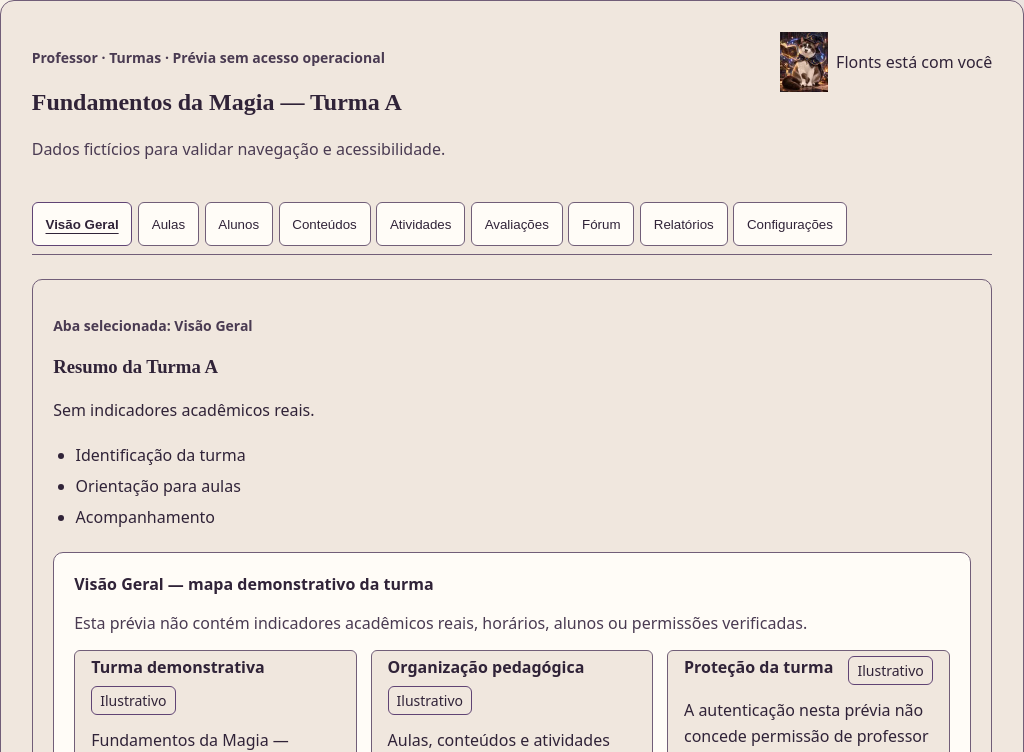
Test: Professor Turma A tabs prototype › renders read-only settings only in Configurações, isolated from Relatórios
Click the tab "Configurações" at (790, 224), box [733,202,847,246]
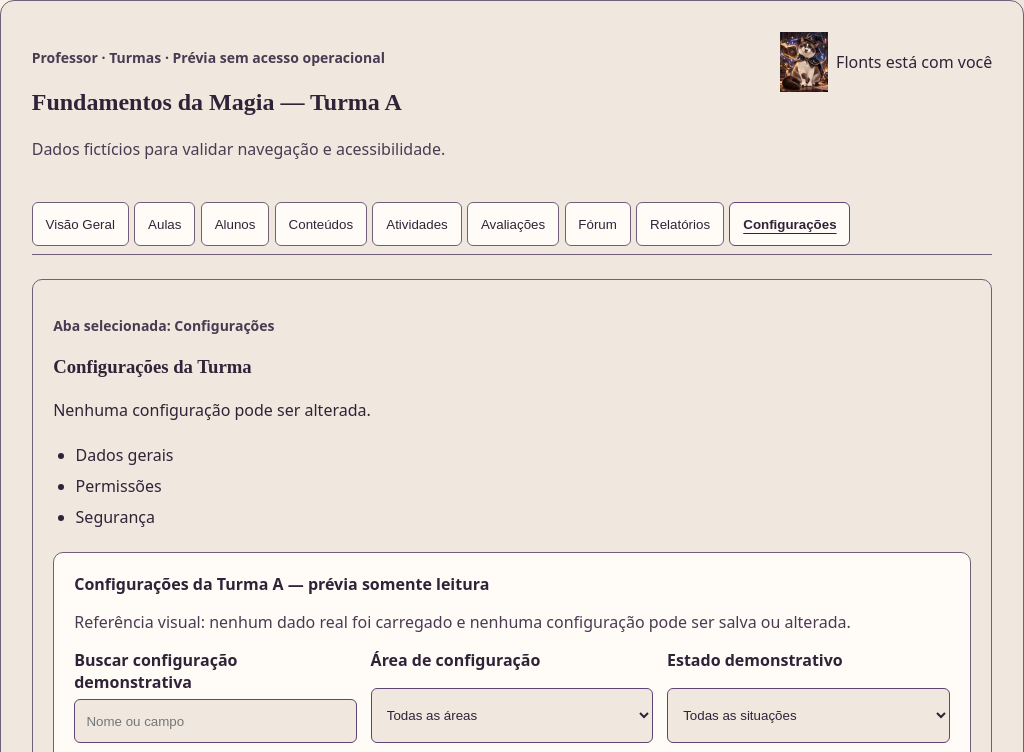
Check: the panel shows "Configurações da Turma A — prévia somente leitura", box [74,573,489,595]
Check: the search field labelled "Buscar configuração demonstrativa" is shown, box [74,699,357,743]
Click the tab "Relatórios" at (680, 224), box [636,202,724,246]
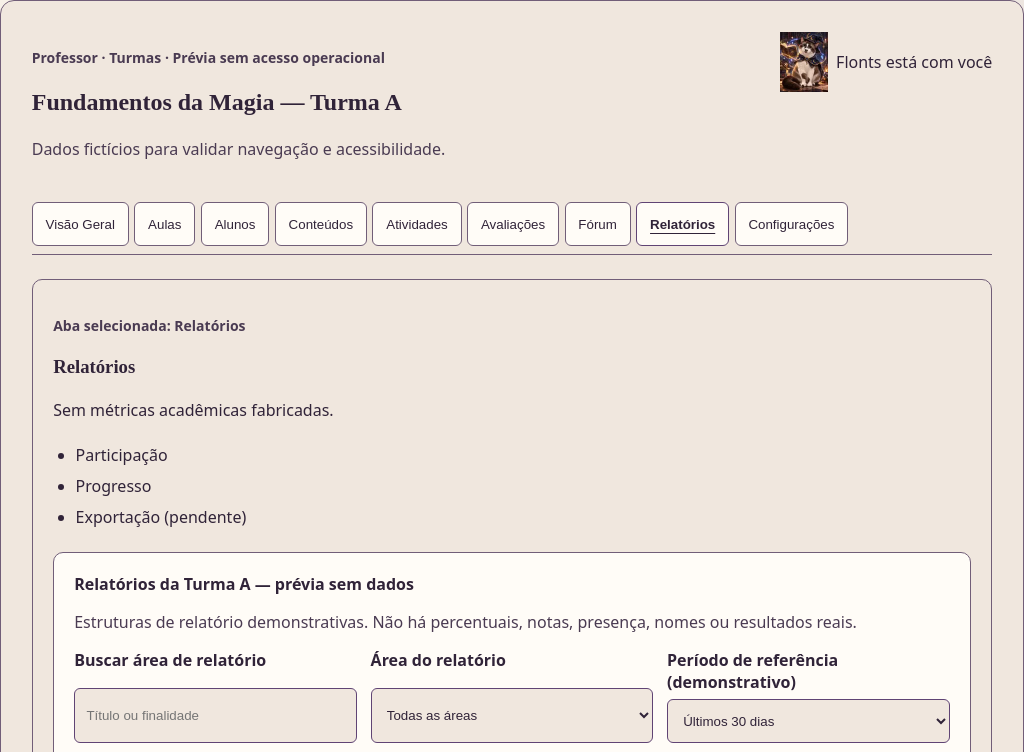
Check: the search field labelled "Buscar área de relatório" is shown, box [74,688,357,743]
Check: the text "Buscar configuração demonstrativa" is gone
